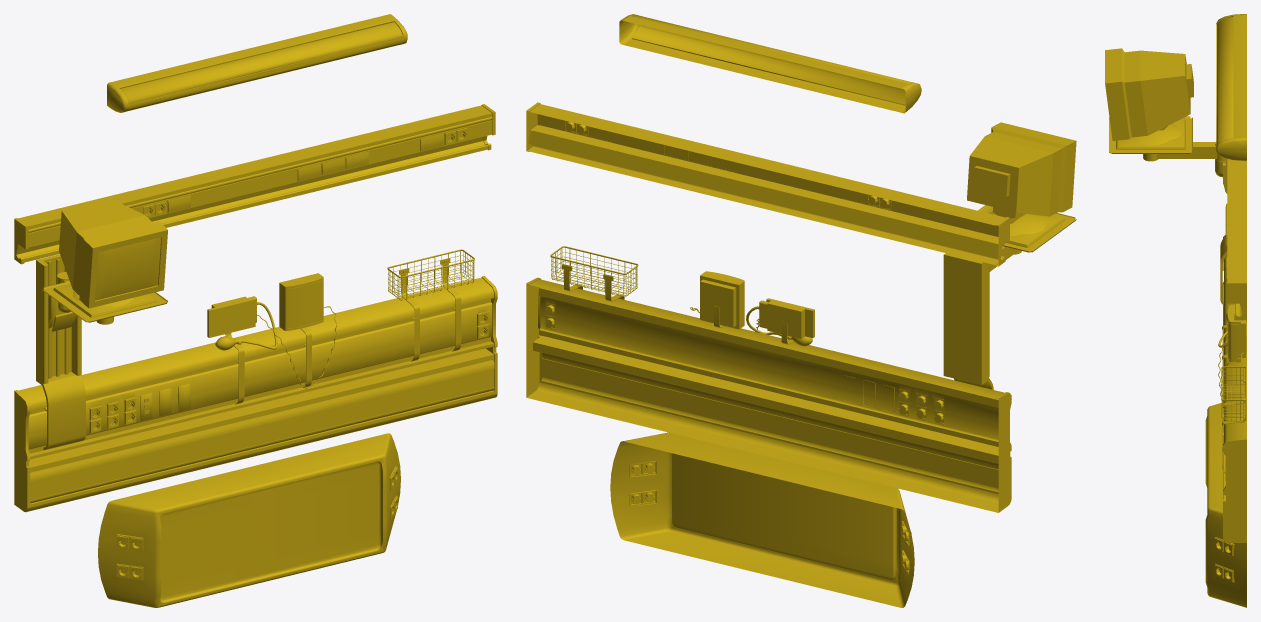
Rendered from Wall.fbx.
3 renders of one model, left to right at view 1: azimuth 30°, elevation 25°; view 2: azimuth 150°, elevation 25°; view 3: azimuth 270°, elevation 25°, orthographic. The views are drawn at different scales.
Parts seen in each view (by area): view 1: Wall_2, Wall_3, Wall_1, tv_1_1_1_1, Lamp_1, tv_1, tv_1_1_1, tw_1_1; view 2: Wall_2, Wall_3, Wall_1, Lamp_1, tv_1_1_1_1, tv_1, tv_1_1_1; view 3: tv_1_1_1_1, Wall_2, Wall_3, Lamp_1, Wall_1, tv_1_1_1, tv_1, tw_1_1.
Boxes of the visible parts, left/top/right/bottom form: Wall_2: left=14, top=249, right=497, bottom=512; Wall_3: left=98, top=433, right=400, bottom=607; Wall_1: left=14, top=104, right=495, bottom=264; tv_1_1_1_1: left=53, top=198, right=167, bottom=317; Lamp_1: left=107, top=14, right=407, bottom=112; tv_1: left=36, top=254, right=85, bottom=450; tv_1_1_1: left=42, top=272, right=167, bottom=324; tw_1_1: left=48, top=295, right=77, bottom=331; Wall_2: left=526, top=246, right=1011, bottom=512; Wall_3: left=610, top=432, right=914, bottom=607; Wall_1: left=526, top=102, right=1009, bottom=266; Lamp_1: left=619, top=14, right=921, bottom=113; tv_1_1_1_1: left=967, top=122, right=1076, bottom=247; tv_1: left=943, top=253, right=993, bottom=389; tv_1_1_1: left=978, top=205, right=1076, bottom=271; tv_1_1_1_1: left=1105, top=48, right=1193, bottom=149; Wall_2: left=1218, top=235, right=1246, bottom=542; Wall_3: left=1205, top=403, right=1246, bottom=607; Lamp_1: left=1216, top=14, right=1246, bottom=160; Wall_1: left=1225, top=158, right=1246, bottom=320; tv_1_1_1: left=1109, top=116, right=1225, bottom=161; tv_1: left=1220, top=236, right=1227, bottom=305; tw_1_1: left=1215, top=159, right=1227, bottom=193.
Size of the model in its own units: 252 by 263 by 71.9.
